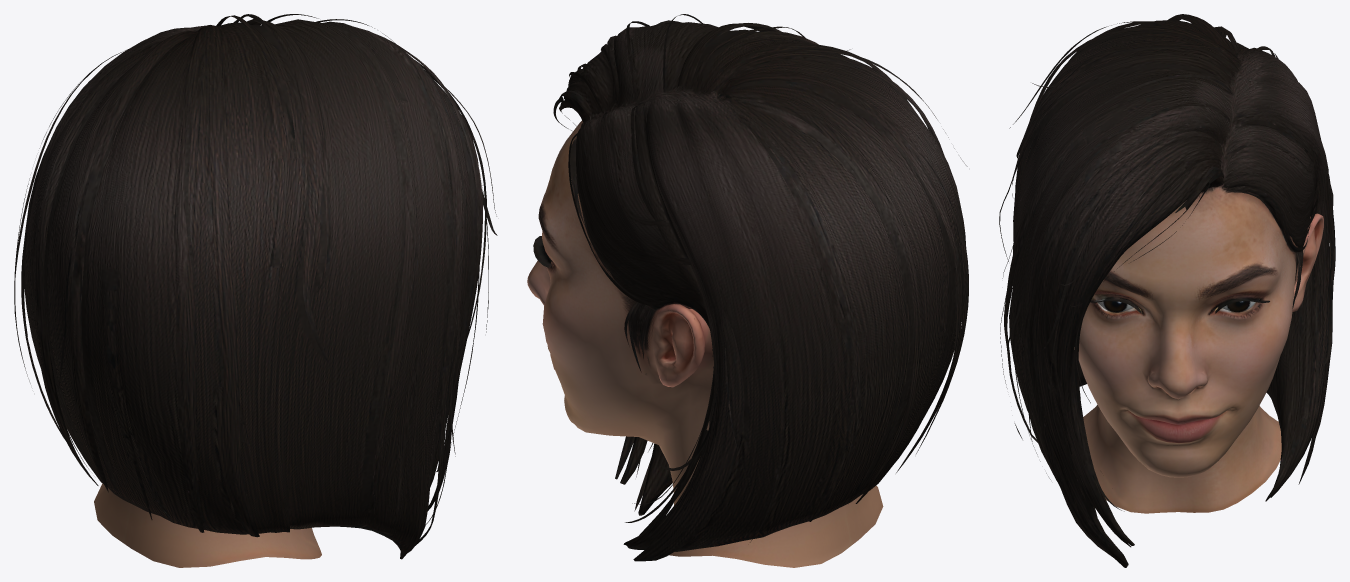
Rendered from source.glb.
The picture shows the model from 3 angles, left to right: view 1: azimuth 30°, elevation 25°; view 2: azimuth 150°, elevation 25°; view 3: azimuth 270°, elevation 25°; orthographic projection. The views are drawn at different scales.
Visible parts, largest first — view 1: tripo_node_9d934182-8312-4674-8e67-d6fecddca594; view 2: tripo_node_9d934182-8312-4674-8e67-d6fecddca594; view 3: tripo_node_9d934182-8312-4674-8e67-d6fecddca594.
Boxes of the visible parts, bbox=[...] form: tripo_node_9d934182-8312-4674-8e67-d6fecddca594: bbox=[14, 14, 497, 567]; tripo_node_9d934182-8312-4674-8e67-d6fecddca594: bbox=[527, 14, 968, 567]; tripo_node_9d934182-8312-4674-8e67-d6fecddca594: bbox=[999, 14, 1335, 567].
Size of the model in its own units: 0.8022 by 0.9995 by 0.6421.
1 material, 1 textured.
